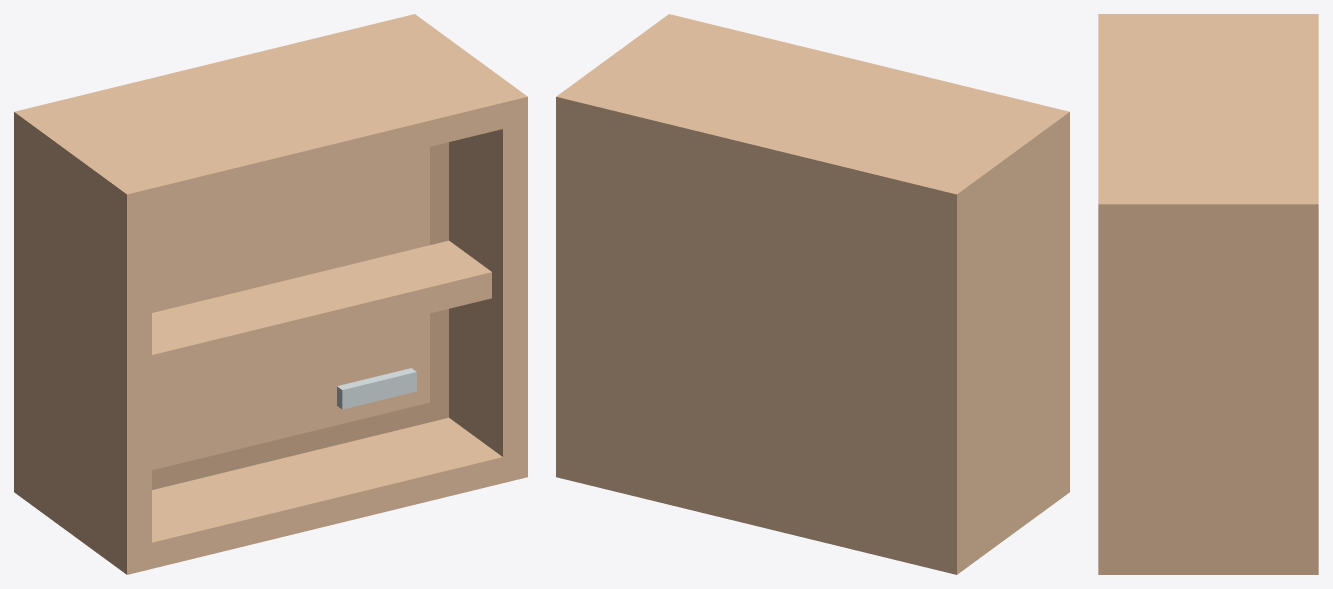
The model's file is kitchenCabinetUpper.glb.
3 renders of one model, left to right at view 1: azimuth 30°, elevation 25°; view 2: azimuth 150°, elevation 25°; view 3: azimuth 270°, elevation 25°, orthographic. The views are drawn at different scales.
Parts seen in each view (by area): view 1: kitchenCabinetUpper, kitchenCabinetUpper.001; view 2: kitchenCabinetUpper; view 3: kitchenCabinetUpper.
Part boxes in pixels (box(x1,y1,x2,y2)): kitchenCabinetUpper: box(14, 14, 527, 574); kitchenCabinetUpper.001: box(152, 142, 448, 489); kitchenCabinetUpper: box(556, 14, 1069, 574); kitchenCabinetUpper: box(1098, 14, 1318, 574).
Size of the model in its own units: 1.29 by 1.17 by 0.63.
